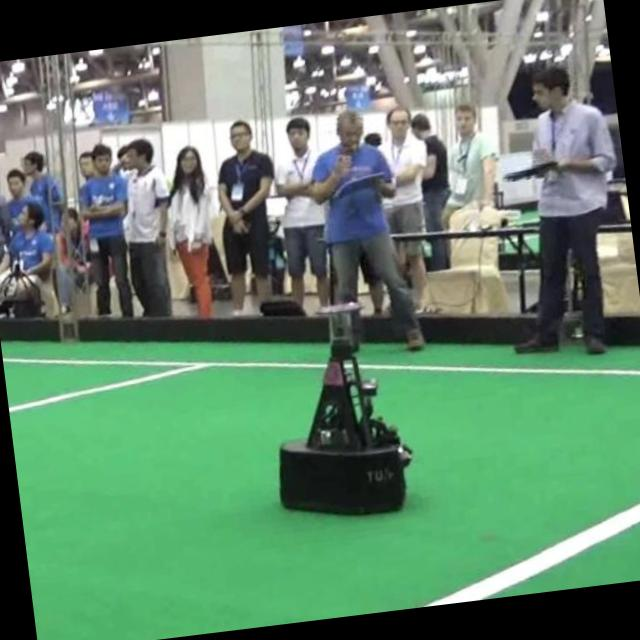robot: (279, 302, 411, 513)
